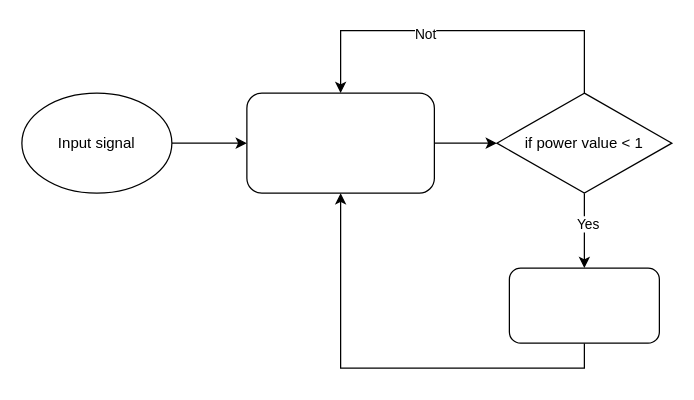
This 694x400 diagram has some shape labels left out. The centre of each missing label's shape, as x and y in pixels:
"Calculate the power for every interval of the signal Interval time: 0.1 second" goes at pixel 340 142.
"Delete the signals in this period" goes at pixel 583 305.
